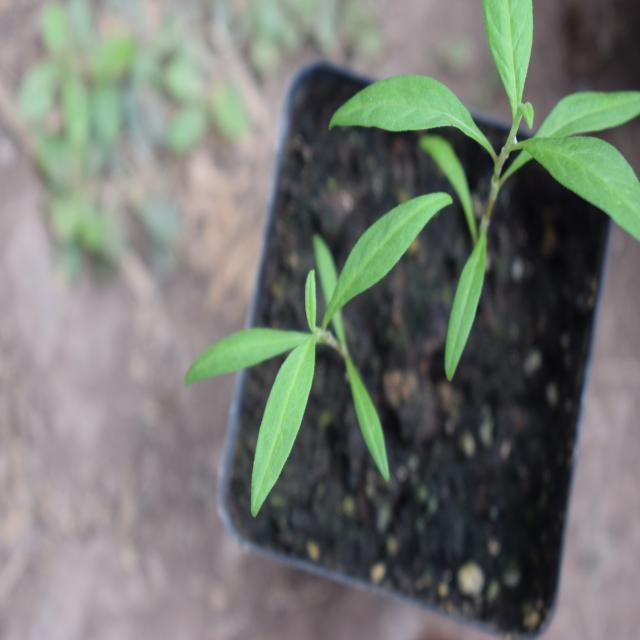white_smart_weed: (344, 0, 621, 326), (195, 185, 445, 506)
